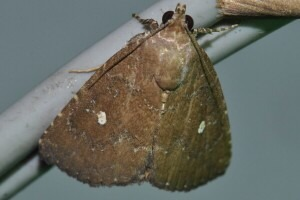Noctuidae: (37, 3, 237, 189)
